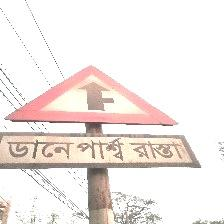Side-road-right: (0, 64, 197, 168)
